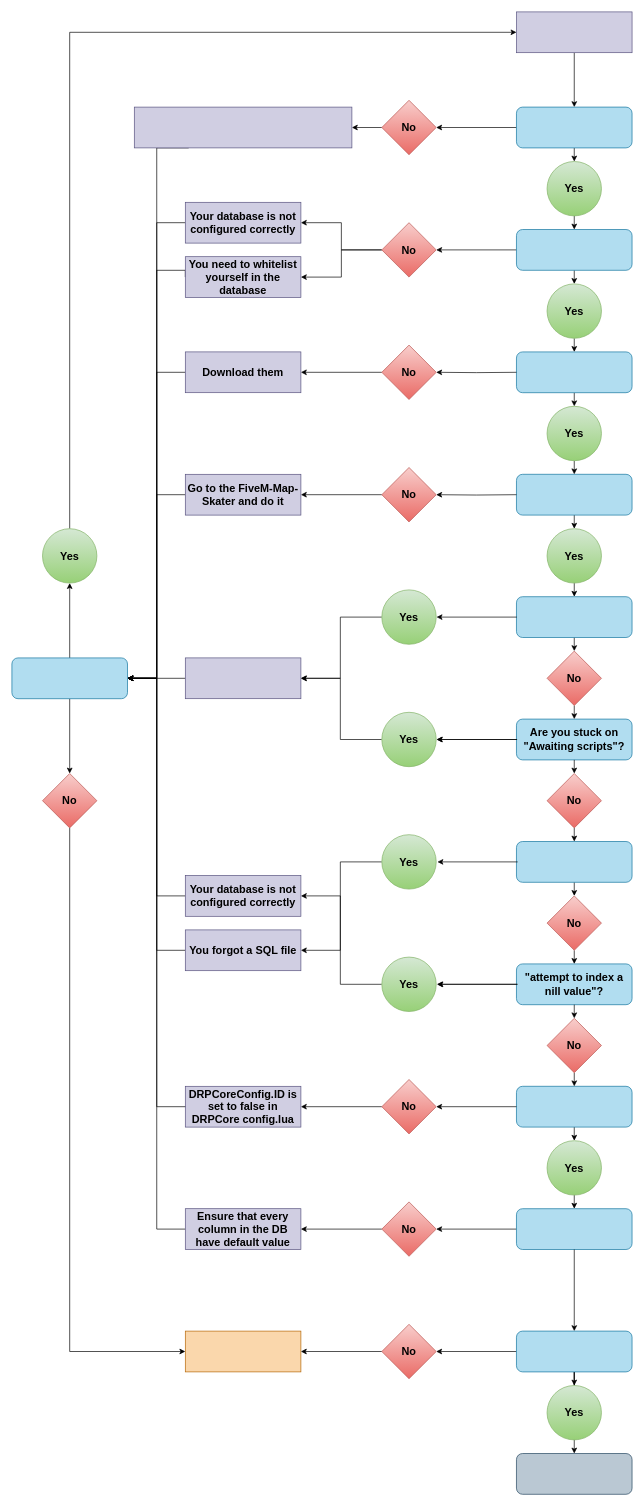
This 644x1506 diagram has some shape labels left out. Each missing label, with the centre of its shape:
"bad argument #1 to 'strfind' (string expected, got nil)"?: point (574, 861)
Are you crashing?: point (574, 617)
Ask on Discord discord.gg/QTuvsPd: point (574, 1473)
Can you connect to the server?: point (574, 249)
Can you create a character?: point (574, 1229)
Can you see the character spawn menu?: point (574, 1106)
Check the wiki: https://github.com/OfficialDarkzy/DRP-Core/wiki: point (243, 127)
Clear your server cache: point (243, 678)
Congratulation we made it!: point (243, 1351)
Did you change the gamemode?: point (574, 494)
Did you check the wiki?: point (574, 127)
Have you the latest DRP files?: point (574, 372)
I have an error: point (574, 32)
Is your error still there?: point (574, 1351)
Still have an error?: point (69, 678)
